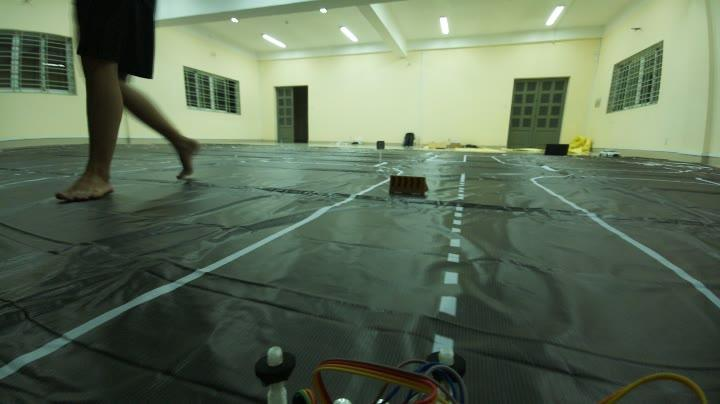roadblock: (384, 166, 432, 202)
